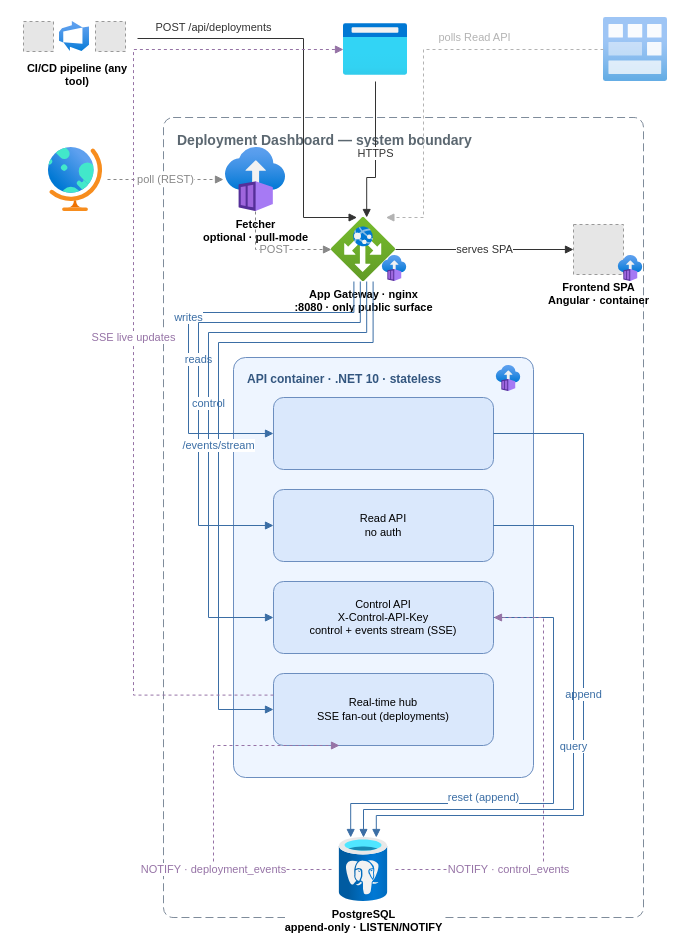
Image size: 698x951. Some labels were removed from this diagram. Grey dashed boxes stand in for pictures. The centre of each missing label's shape, as x and y in pixels:
CI/CD provider API (e.g. GitHub REST): the point at 75,179
Notification client (planned · v2): the point at 635,49
Operator browser: the point at 375,49
Write API X-Api-Key: the point at 383,433
